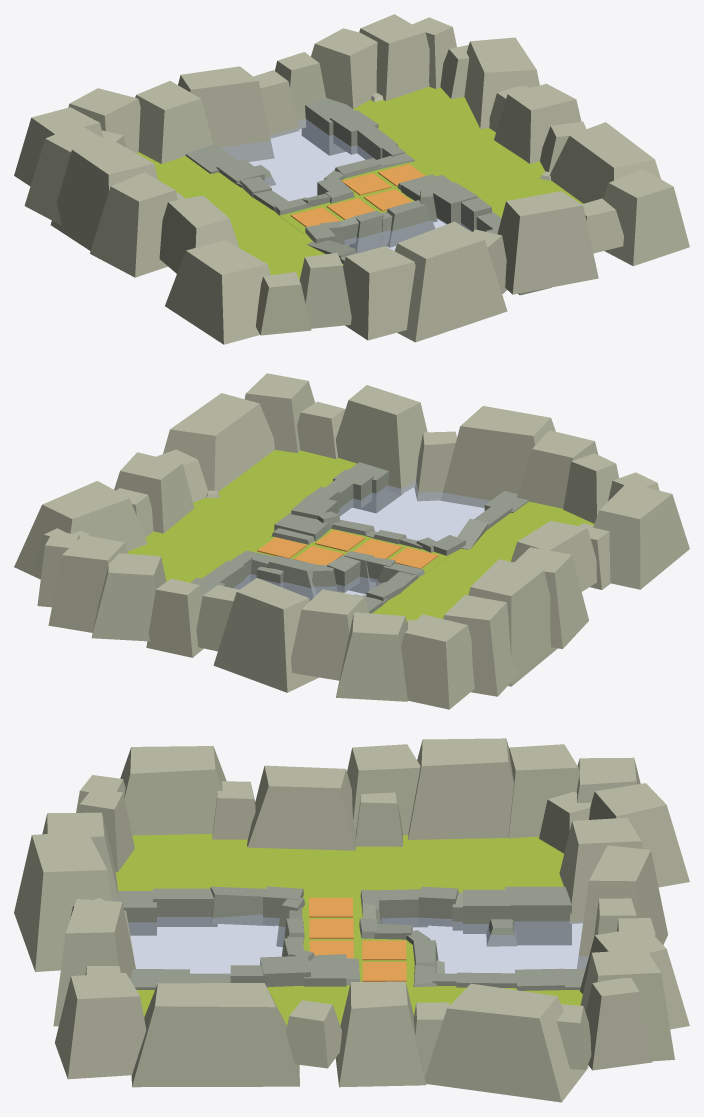
Rendered from firstLevelWorld.glb.
3 views of the same model, one above another, from view 1: azimuth 30°, elevation 25°; view 2: azimuth 150°, elevation 25°; view 3: azimuth 270°, elevation 25° (orthographic). The views are drawn at different scales.
Parts seen in each view (by area): view 1: Grass1, Mountain.028, Mountain.027, Mountain.019, Water, Grass2, Mountain.006, Mountain.015, Mountain.002, Mountain.024, Mountain.009, Mountain.016 (+36 smaller); view 2: Grass1, Mountain.028, Mountain.015, Grass2, Mountain.019, Mountain.027, Mountain.016, Water, Mountain.018, Mountain.022, Mountain.024, Mountain.030 (+36 smaller); view 3: Grass2, Water, Mountain.016, Mountain.022, Mountain.024, Mountain.028, Mountain.019, Mountain.017, Mountain.002, Mountain.021, Mountain.015, Mountain.027 (+42 smaller).
Boxes of the visible parts, bbox=[...] form: Grass1: bbox=[353, 86, 583, 217]; Mountain.028: bbox=[395, 221, 507, 342]; Mountain.027: bbox=[497, 191, 598, 294]; Mountain.019: bbox=[165, 240, 270, 344]; Water: bbox=[220, 119, 472, 253]; Grass2: bbox=[136, 152, 343, 279]; Mountain.006: bbox=[90, 172, 177, 277]; Mountain.015: bbox=[178, 66, 274, 161]; Mountain.002: bbox=[603, 169, 689, 266]; Mountain.024: bbox=[50, 139, 157, 250]; Mountain.009: bbox=[343, 246, 415, 340]; Mountain.016: bbox=[549, 122, 660, 203]; Grass1: bbox=[127, 450, 356, 582]; Mountain.028: bbox=[440, 406, 555, 507]; Mountain.015: bbox=[213, 578, 318, 692]; Grass2: bbox=[372, 501, 594, 622]; Mountain.019: bbox=[593, 482, 689, 589]; Mountain.027: bbox=[335, 385, 427, 494]; Mountain.016: bbox=[163, 393, 274, 491]; Water: bbox=[234, 481, 489, 600]; Mountain.018: bbox=[401, 614, 474, 709]; Mountain.022: bbox=[14, 481, 147, 579]; Mountain.024: bbox=[468, 559, 557, 686]; Mountain.030: bbox=[336, 612, 407, 701]; Grass2: bbox=[116, 834, 563, 893]; Water: bbox=[128, 914, 588, 973]; Mountain.016: bbox=[131, 983, 299, 1087]; Mountain.022: bbox=[425, 983, 588, 1102]; Mountain.024: bbox=[408, 738, 513, 839]; Mountain.028: bbox=[14, 831, 112, 971]; Mountain.019: bbox=[120, 746, 226, 835]; Mountain.017: bbox=[247, 765, 355, 850]; Mountain.002: bbox=[55, 973, 146, 1079]; Mountain.021: bbox=[335, 981, 426, 1087]; Mountain.015: bbox=[577, 845, 667, 968]; Mountain.027: bbox=[53, 899, 135, 1026].
Bounding box in the file's own units: 31.23 × 5.48 × 30.71.
